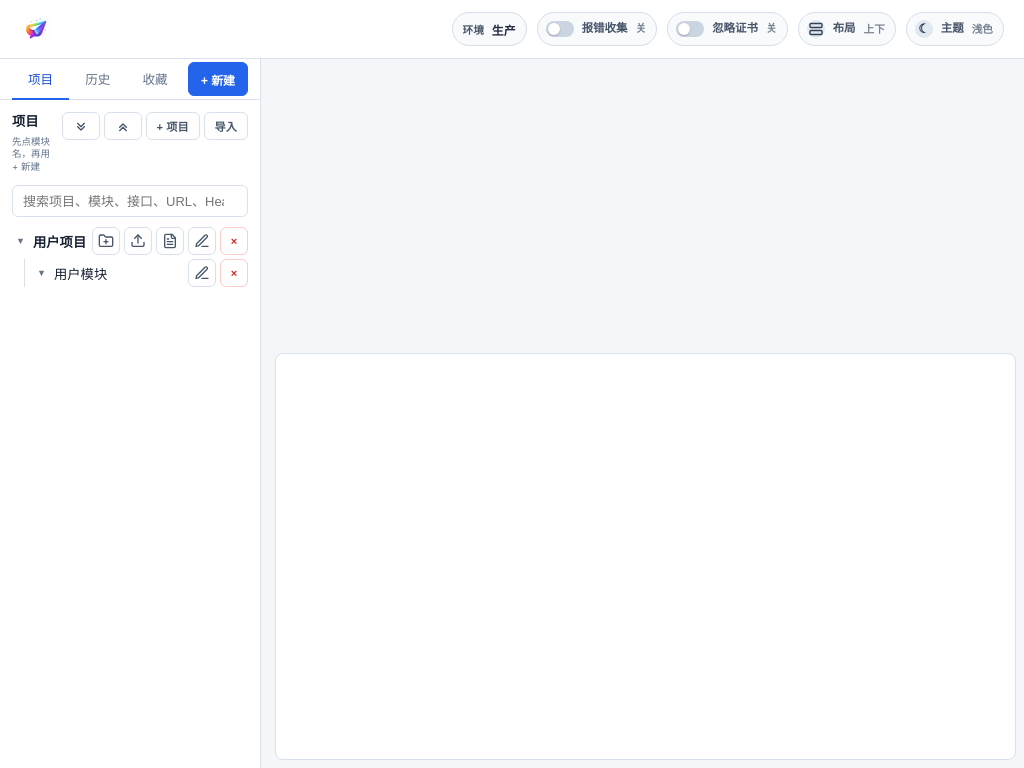
项目树环境入口 › 浏览另一项目时环境编辑保存到所选项目，原接口和环境保持不变
This screenshot has width=1024, height=768.
Click the button "用户项目".
click(60, 241)  # box [29,230,92,252]
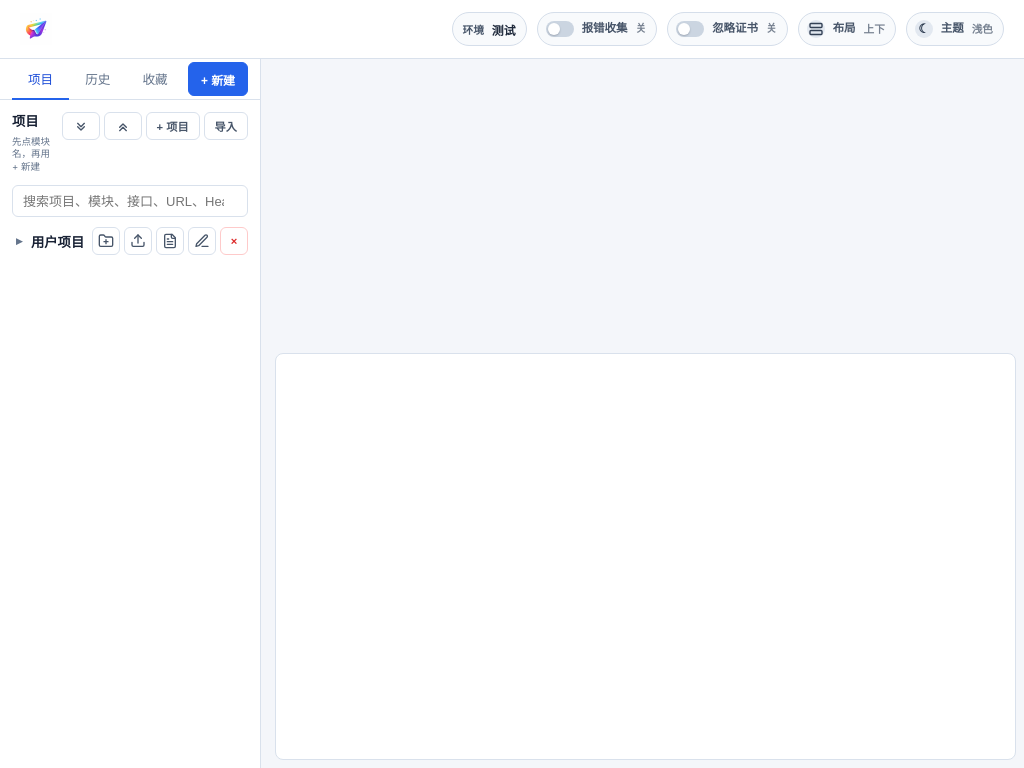
Click the button with aria-label "打开环境快速编辑，当前环境：测试".
click(489, 29)  # box [452,12,527,46]
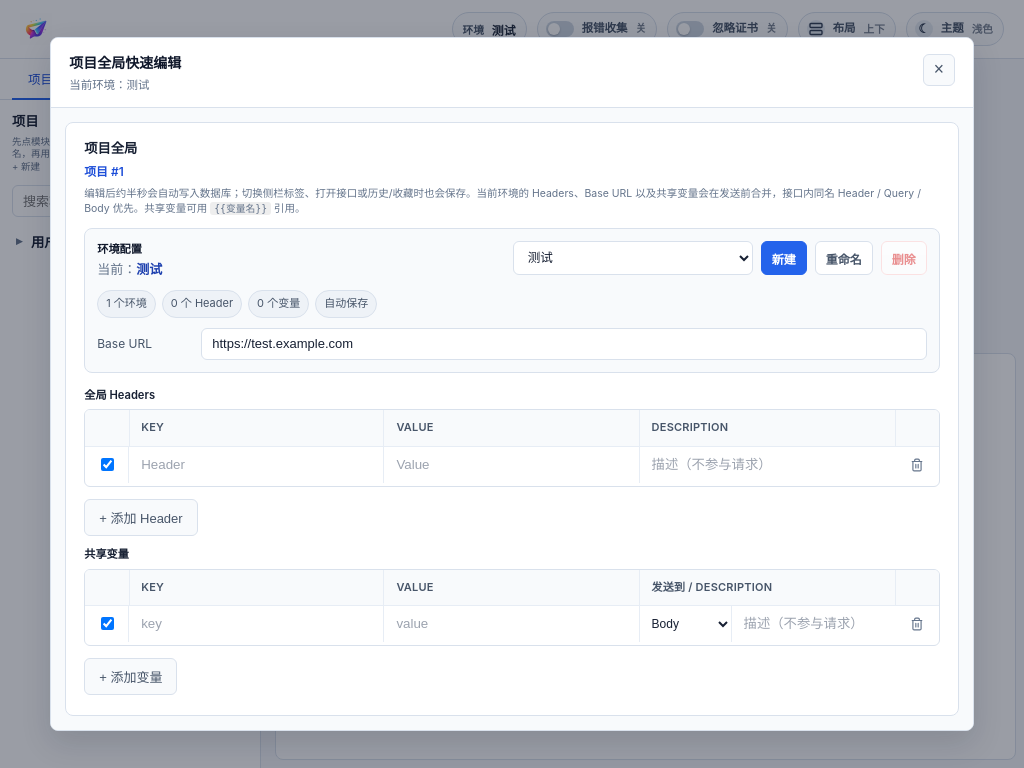
Replace the text in the field labelled "Base URL" with "https://saved.example.com" at (564, 344), box [201,328,927,360]
Press s
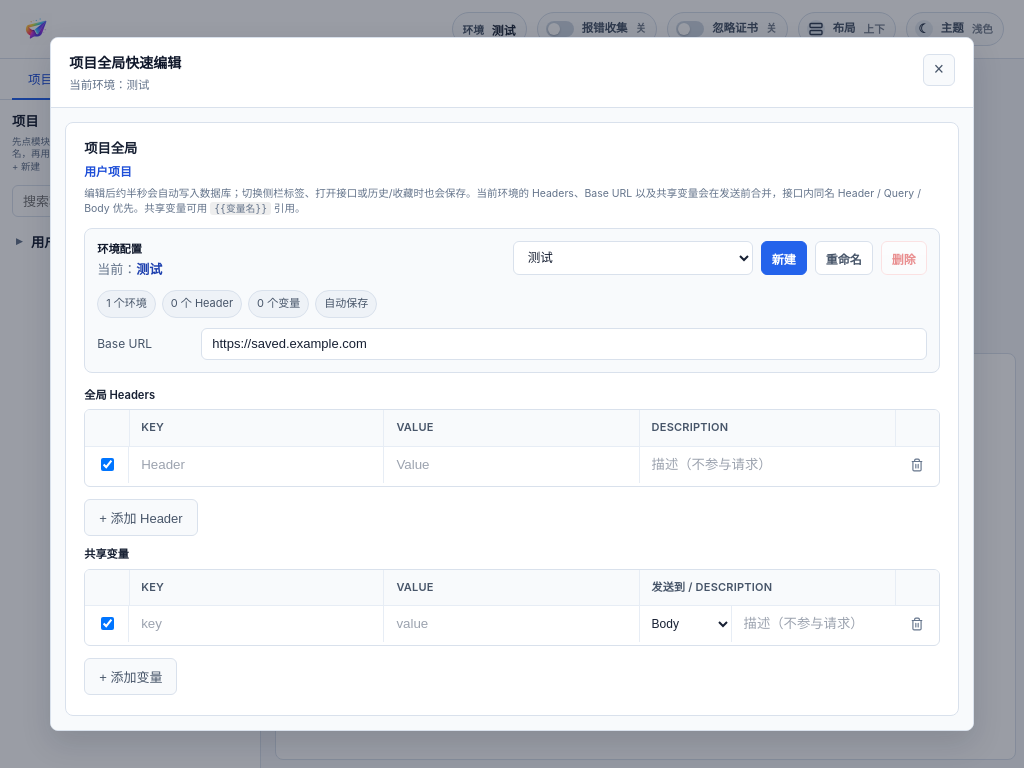
Replace the text in the field labelled "Base URL" with "https://edited.example.com" at (564, 344), box [201,328,927,360]
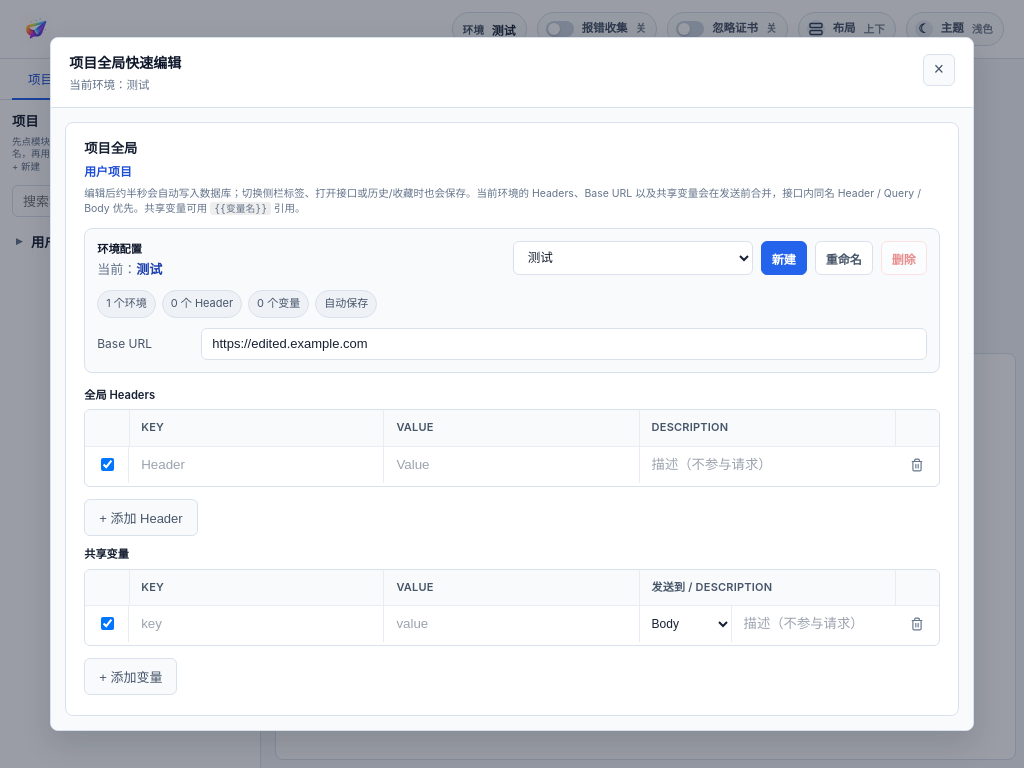
Click the button named "关闭项目全局快速编辑".
click(939, 70)  # box [923,54,955,86]
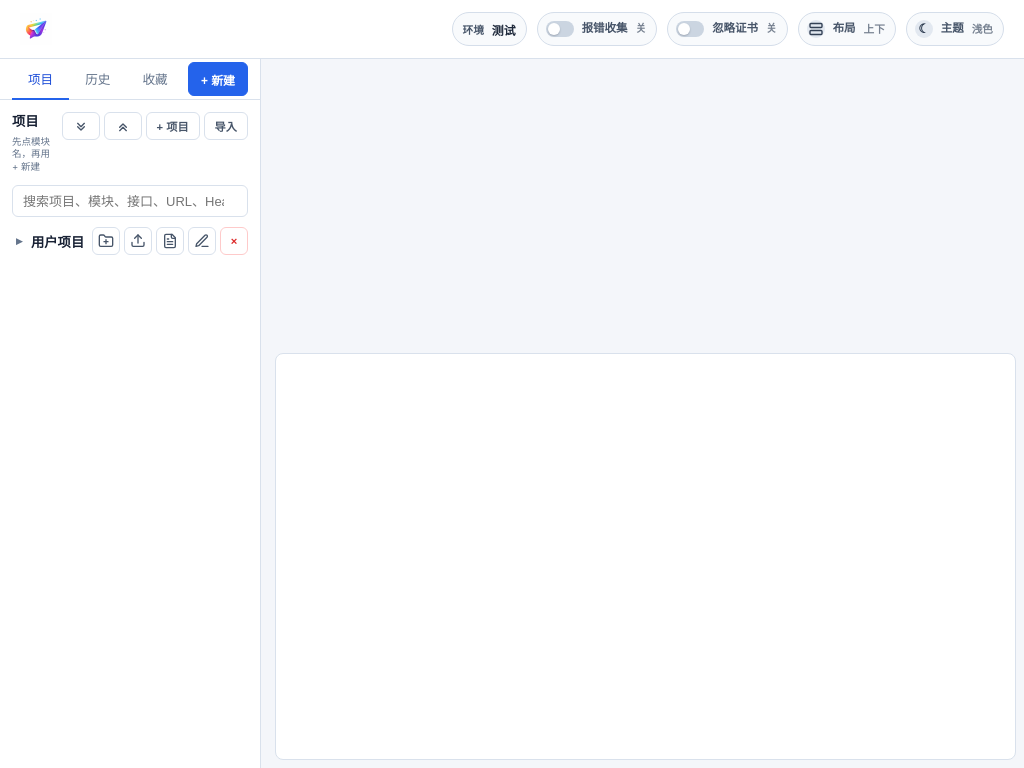
Click the button "历史".
click(98, 80)  # box [69,59,126,100]
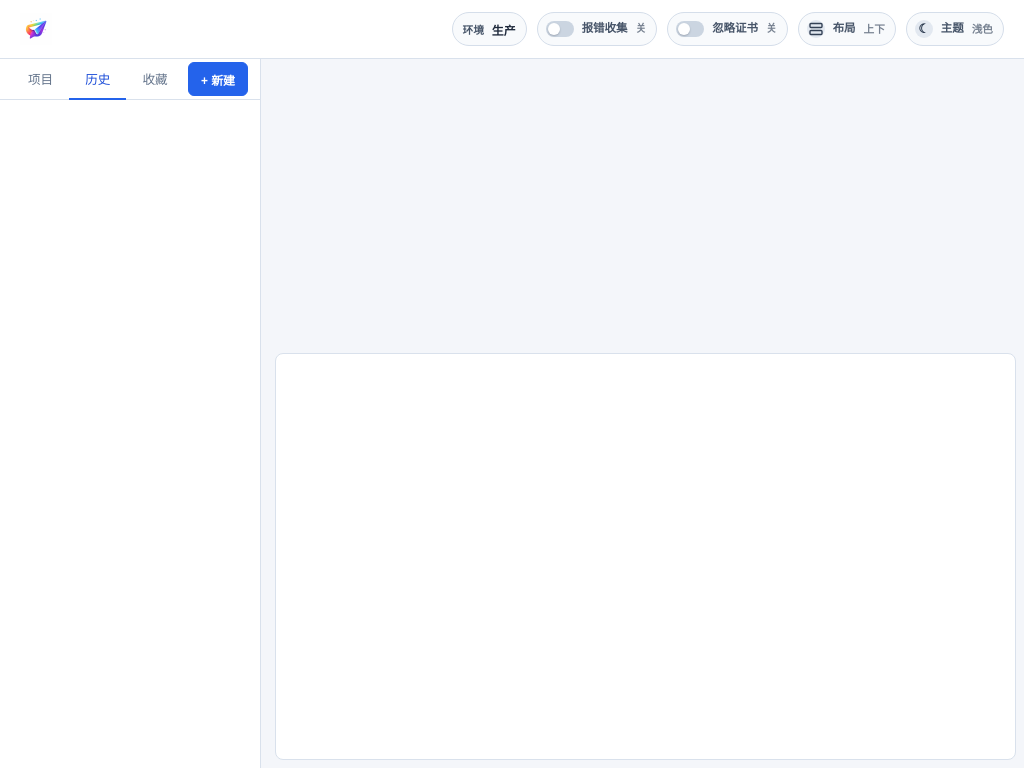
Expected: the button with aria-label "打开环境快速编辑，当前环境：生产" is shown, [452,12,527,46]
